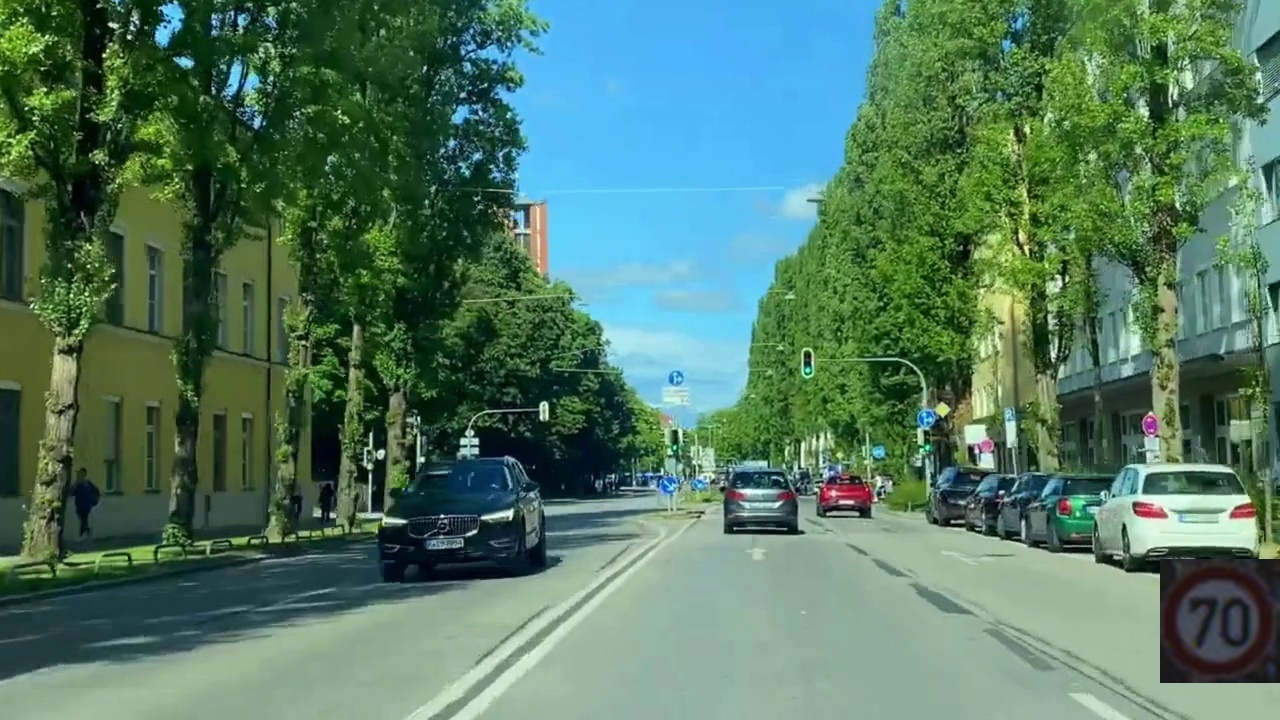Speed 70: (1160, 559, 1280, 683)
